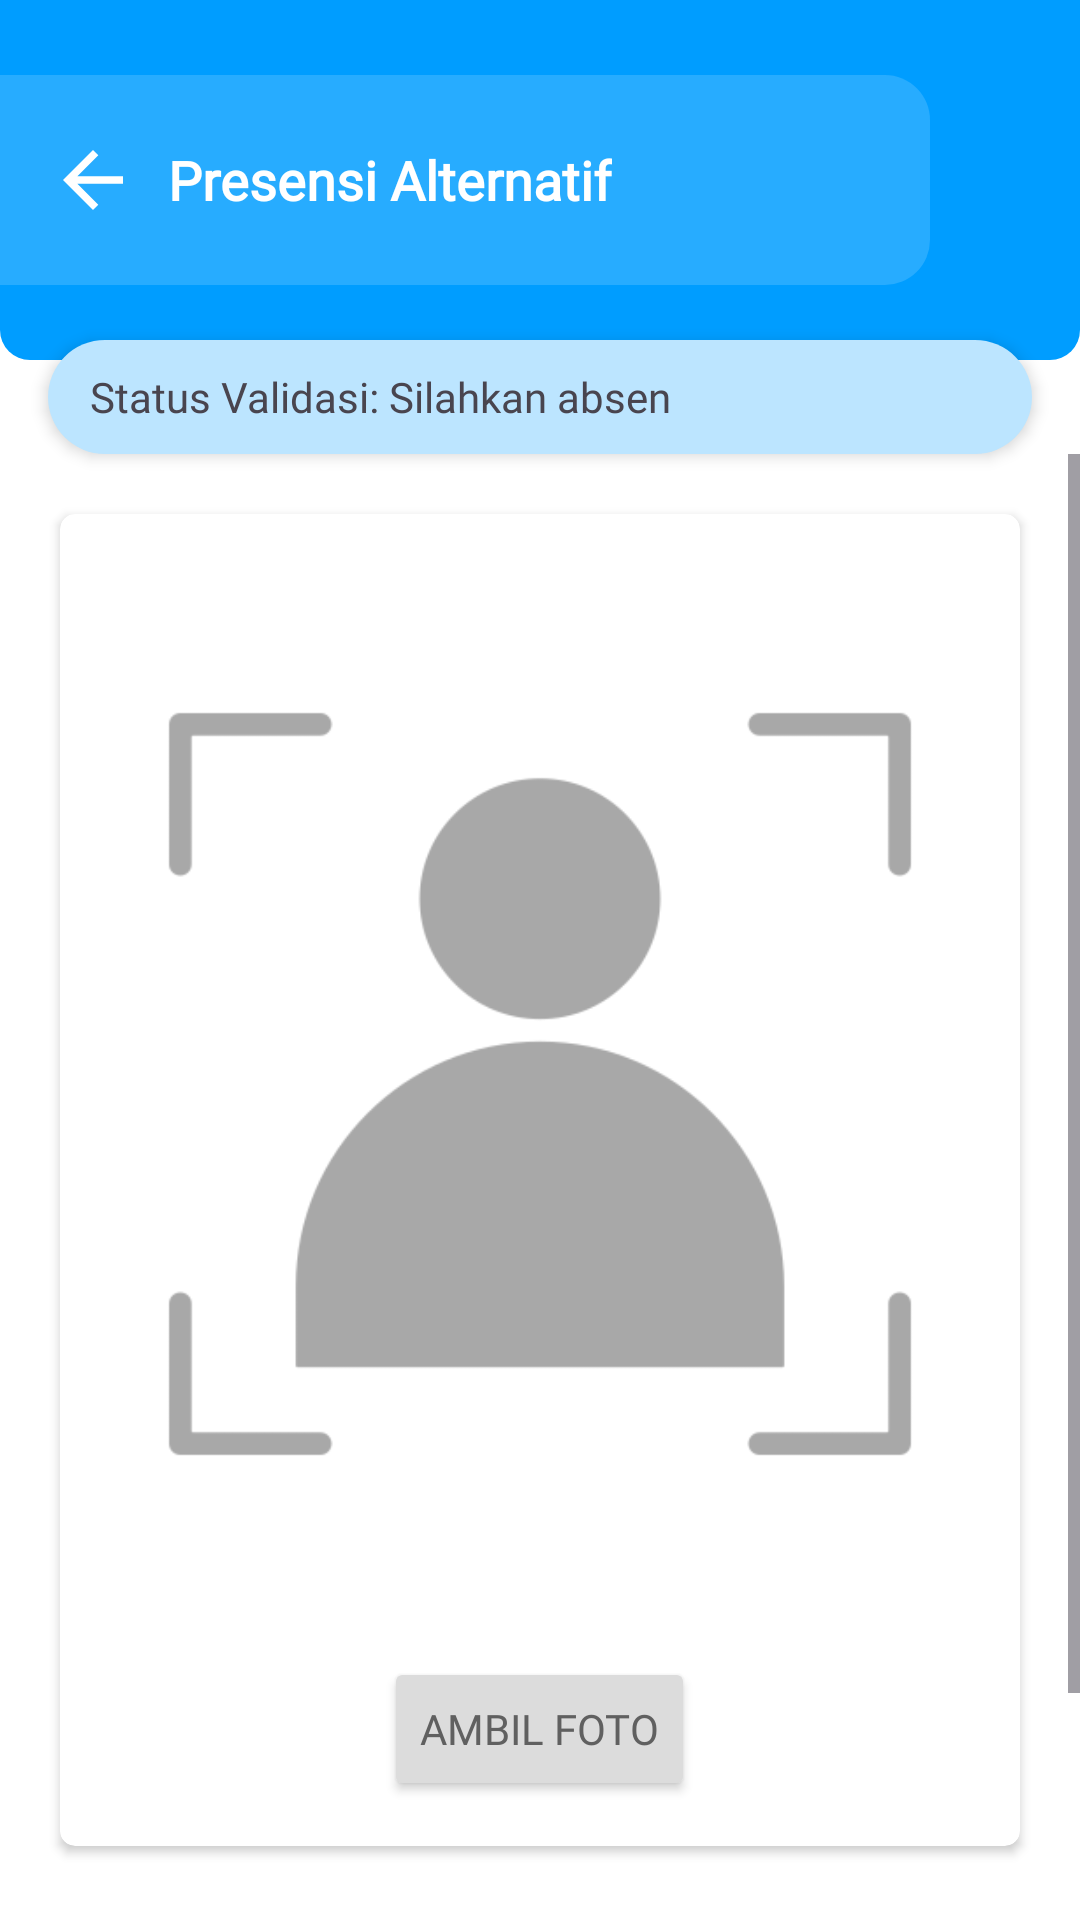

Locate icon controls on the screen. Image size 1080×1920, boxes as bbox(x1, y1, x2, y2).
Back: bbox(63, 150, 123, 210)
